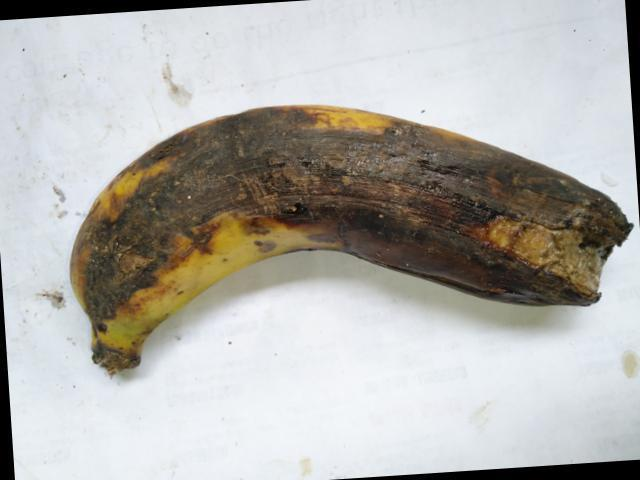rotten: (72, 67, 639, 353)
